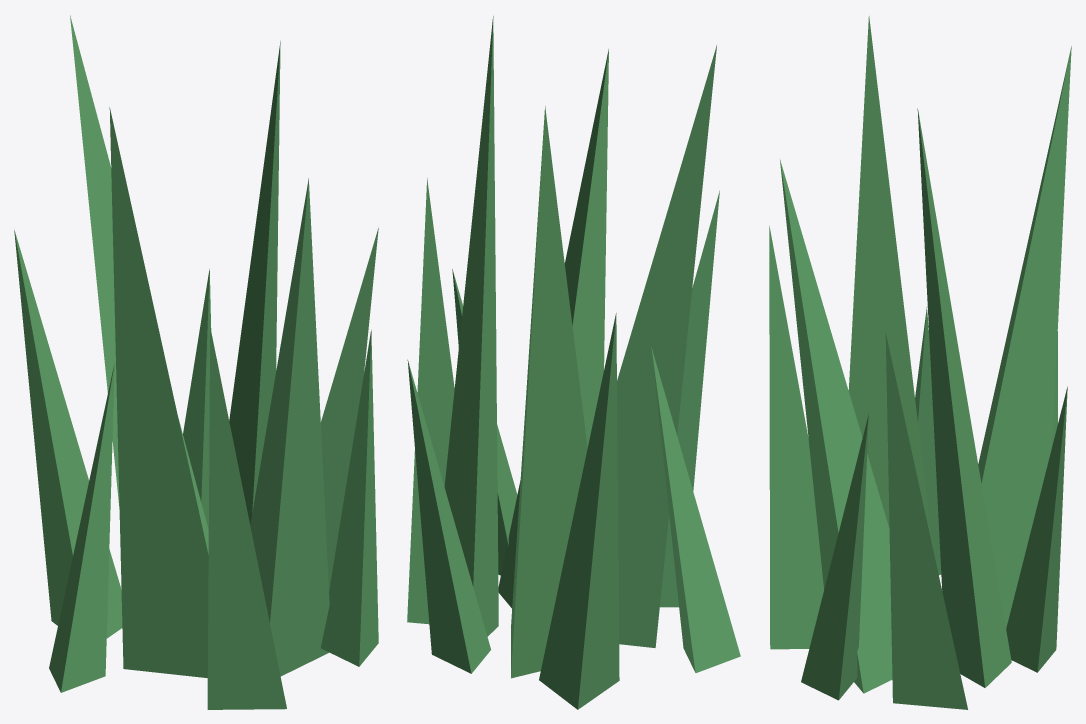
The model's file is Grass.fbx.
3 renders of one model, left to right at view 1: azimuth 30°, elevation 25°; view 2: azimuth 150°, elevation 25°; view 3: azimuth 270°, elevation 25°, orthographic. The views are drawn at different scales.
Parts seen in each view (by area): view 1: Cone, Cone.005, Cone.010, Cone.004, Cone.001, Cone.011, Cone.003, Cone.002, Cone.006, Cone.008; view 2: Cone, Cone.002, Cone.001, Cone.004, Cone.005, Cone.008, Cone.003, Cone.006, Cone.010, Cone.011; view 3: Cone.002, Cone.001, Cone.005, Cone, Cone.010, Cone.006, Cone.011, Cone.008, Cone.003.
Boxes of the visible parts, x1=… form: Cone: x1=109, y1=107, x2=208, y2=677; Cone.005: x1=250, y1=178, x2=329, y2=676; Cone.010: x1=207, y1=328, x2=286, y2=709; Cone.004: x1=14, y1=230, x2=122, y2=638; Cone.001: x1=229, y1=41, x2=280, y2=524; Cone.011: x1=320, y1=330, x2=378, y2=666; Cone.003: x1=49, y1=363, x2=114, y2=692; Cone.002: x1=70, y1=15, x2=208, y2=554; Cone.006: x1=320, y1=228, x2=378, y2=591; Cone.008: x1=183, y1=269, x2=211, y2=528; Cone: x1=617, y1=45, x2=716, y2=647; Cone.002: x1=511, y1=106, x2=587, y2=678; Cone.001: x1=444, y1=16, x2=498, y2=636; Cone.004: x1=539, y1=313, x2=619, y2=709; Cone.005: x1=498, y1=49, x2=608, y2=608; Cone.008: x1=407, y1=359, x2=490, y2=673; Cone.003: x1=651, y1=347, x2=740, y2=672; Cone.006: x1=407, y1=178, x2=454, y2=624; Cone.010: x1=660, y1=190, x2=719, y2=607; Cone.011: x1=452, y1=269, x2=517, y2=575; Cone.002: x1=978, y1=46, x2=1071, y2=628; Cone.001: x1=917, y1=108, x2=1011, y2=687; Cone.005: x1=780, y1=159, x2=892, y2=693; Cone: x1=848, y1=16, x2=932, y2=547; Cone.010: x1=769, y1=225, x2=823, y2=649; Cone.006: x1=885, y1=333, x2=967, y2=709; Cone.011: x1=801, y1=413, x2=868, y2=700; Cone.008: x1=1006, y1=386, x2=1067, y2=672; Cone.003: x1=915, y1=307, x2=941, y2=574.
Size of the model in its own units: 179 by 324 by 154.
